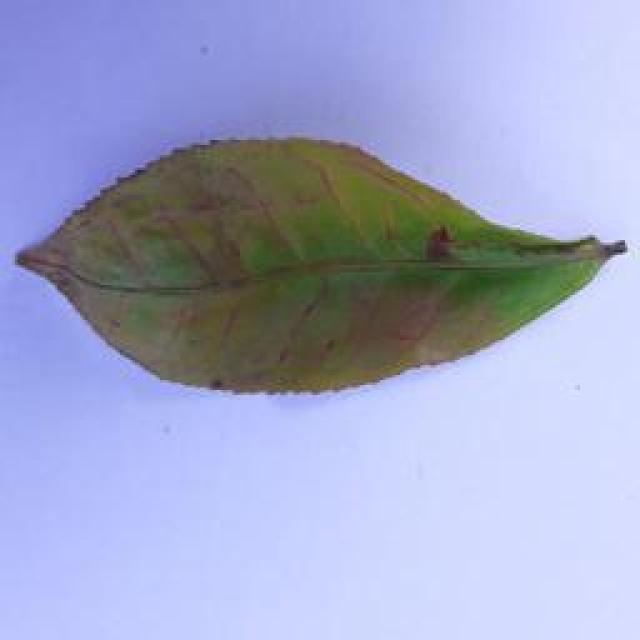Red Leaf Spot: (10, 131, 618, 403)
